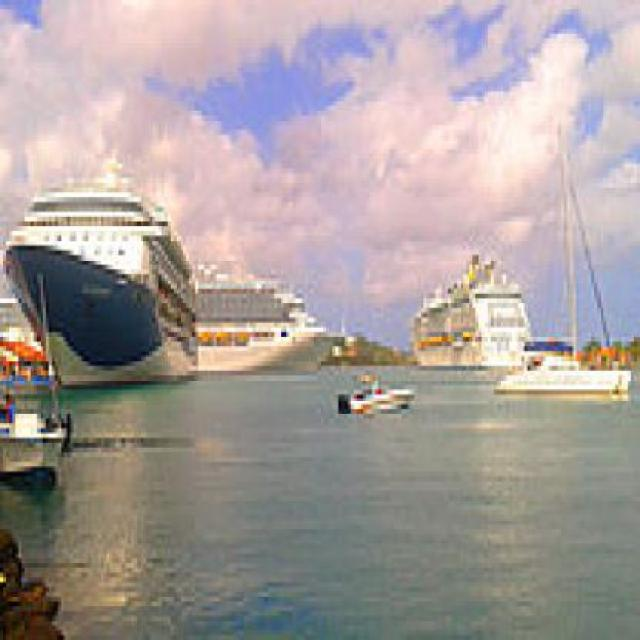cruise: (4, 145, 215, 396), (401, 251, 544, 386)
